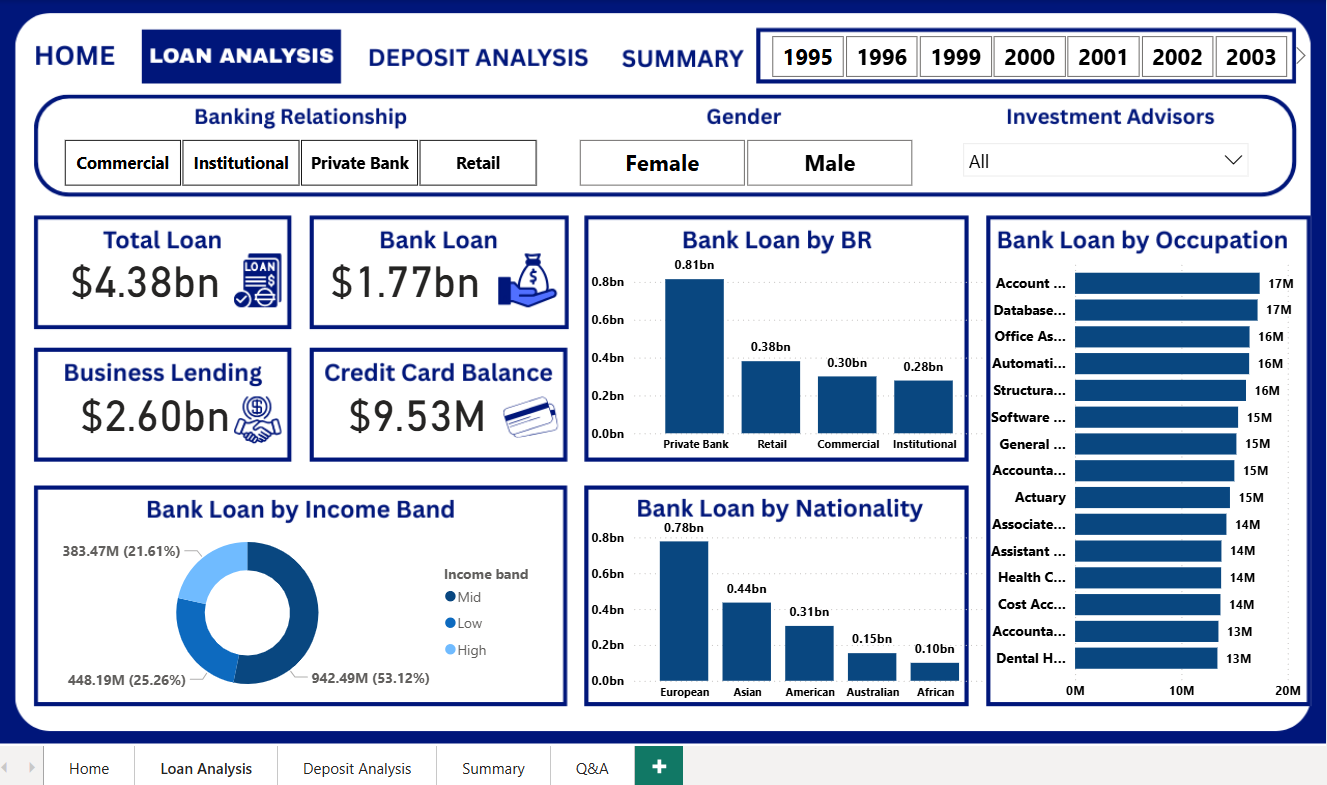

The page's visual inventory and layout, read from the dashboard file:
{"tool":"powerbi","page":{"name":"Loan Analysis","canvas":[1280,720],"ordinal":1},"visuals":[{"type":"card","fields":{"Values":["Explicit Measures.Total Loan"]},"box":[26.1,230.5,227.8,74.1],"z":0},{"type":"card","fields":{"Values":["Sum(public banking.business_lending)"]},"box":[35.7,359.5,227.8,74.1],"z":1000},{"type":"card","fields":{"Values":["Sum(public banking.bank_loans)"]},"box":[277.2,230.5,227.8,74.1],"z":2000},{"type":"card","fields":{"Values":["Sum(public banking.credit_card_balance)"]},"box":[288.2,359.5,229.2,74.1],"z":3000},{"type":"slicer","fields":{"Values":["public banking.joined_bank_Year"]},"box":[719,27.4,547.5,53.5],"z":4000},{"type":"slicer","fields":{"Values":["public banking.Banking Relationship"]},"box":[36.2,127.9,505.5,57.9],"z":5000},{"type":"slicer","fields":{"Values":["public banking.genderid"]},"box":[533.2,127.9,371.6,57.9],"z":6000},{"type":"slicer","fields":{"Values":["public banking.Investment Advisors"]},"box":[919.3,127.9,295.6,57.9],"z":7000},{"type":"donutChart","fields":{"Y":["Sum(public banking.bank_loans)"],"Category":["public banking.Income band"]},"box":[44.6,498.3,488.6,187],"z":8000},{"type":"clusteredColumnChart","fields":{"Category":["public banking.Banking Relationship"],"Y":["Sum(public banking.bank_loans)"]},"box":[565.8,230.4,390.9,216],"z":9000},{"type":"clusteredColumnChart","fields":{"Y":["Sum(public banking.bank_loans)"],"Category":["public banking.nationality"]},"box":[565.8,487.4,390.9,197.9],"z":10000},{"type":"barChart","fields":{"Y":["Sum(public banking.bank_loans)"],"Category":["public banking.occupation"]},"box":[939.8,240.1,340.2,445.2],"z":11000},{"type":"actionButton","box":[26.5,29,92.9,53.1],"z":12000},{"type":"actionButton","box":[347.5,29,228,53.1],"z":13000},{"type":"actionButton","box":[585.1,29,142.4,53.1],"z":14000}]}

Visuals, with their boxes on the page's 1280x720 design canvas (x1, y1, x2, y2). These are canvas units, not pixel positions in the 1327x785 screenshot, which may show the page scaled, cropped or inside an application window:
card - Explicit Measures.Total Loan: select_region(26, 230, 254, 305)
card - Sum(public banking.business_lending): select_region(36, 360, 264, 434)
card - Sum(public banking.bank_loans): select_region(277, 230, 505, 305)
card - Sum(public banking.credit_card_balance): select_region(288, 360, 517, 434)
slicer - public banking.joined_bank_Year: select_region(719, 27, 1266, 81)
slicer - public banking.Banking Relationship: select_region(36, 128, 542, 186)
slicer - public banking.genderid: select_region(533, 128, 905, 186)
slicer - public banking.Investment Advisors: select_region(919, 128, 1215, 186)
donutChart - Sum(public banking.bank_loans) x public banking.Income band: select_region(45, 498, 533, 685)
clusteredColumnChart - public banking.Banking Relationship x Sum(public banking.bank_loans): select_region(566, 230, 957, 446)
clusteredColumnChart - Sum(public banking.bank_loans) x public banking.nationality: select_region(566, 487, 957, 685)
barChart - Sum(public banking.bank_loans) x public banking.occupation: select_region(940, 240, 1280, 685)
actionButton: select_region(26, 29, 119, 82)
actionButton: select_region(348, 29, 576, 82)
actionButton: select_region(585, 29, 728, 82)
